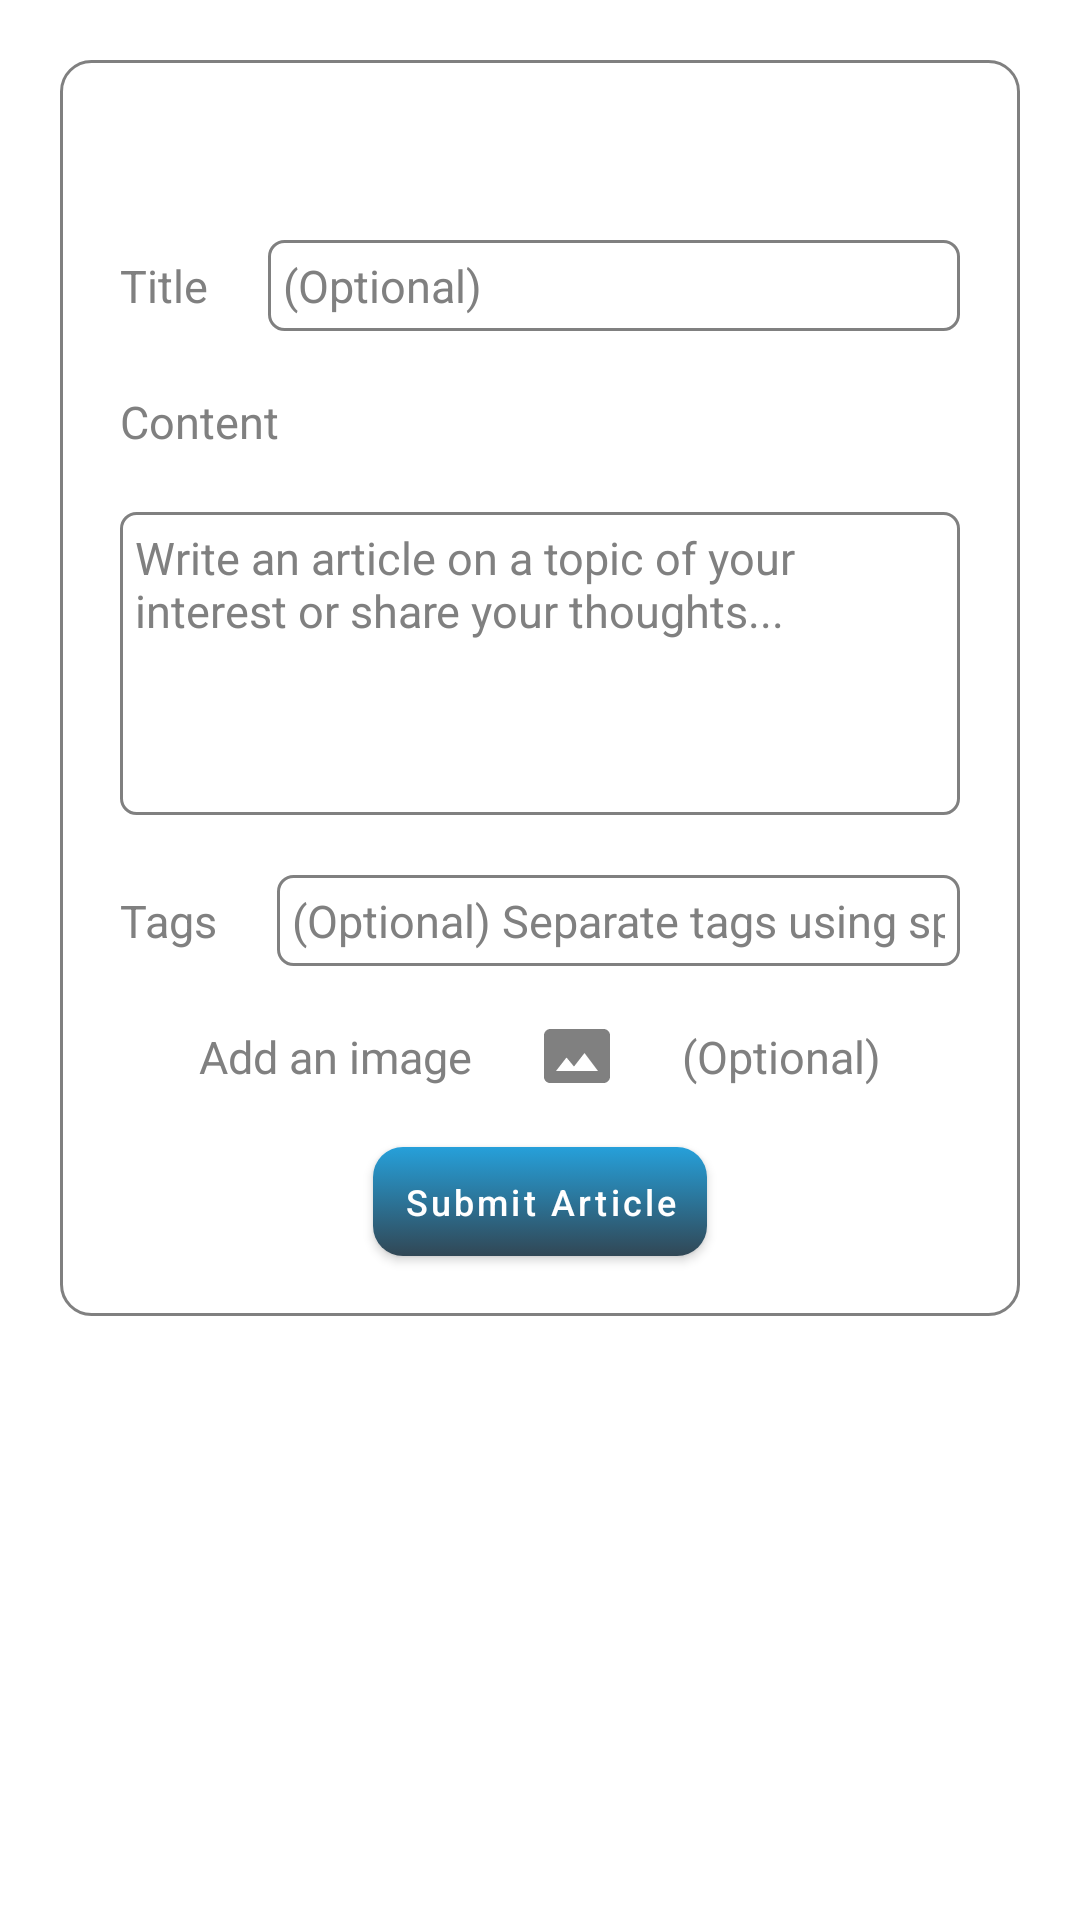

Screen size 1080×1920. Icon name, then its box in pixels as (x1, y1, x2, y2):
photo size select actual: (544, 1029, 610, 1083)
